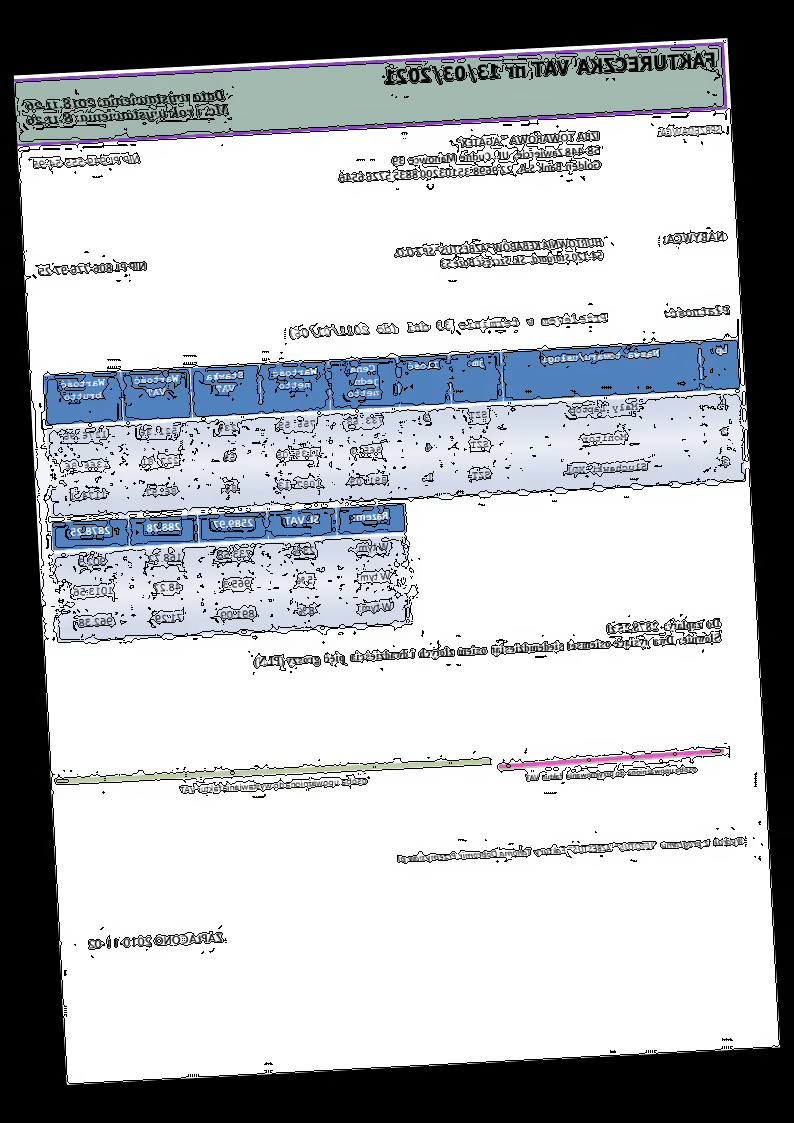Table: (42, 337, 747, 520), (51, 503, 412, 644)
TextBox: (251, 615, 724, 671), (335, 129, 604, 186), (383, 49, 719, 89), (395, 834, 745, 867), (286, 310, 609, 342), (25, 87, 233, 129), (392, 236, 605, 273), (179, 774, 370, 797), (525, 762, 699, 784), (88, 929, 226, 951), (38, 260, 149, 278), (32, 153, 142, 171), (662, 302, 732, 321), (656, 121, 723, 140), (663, 228, 727, 246)
